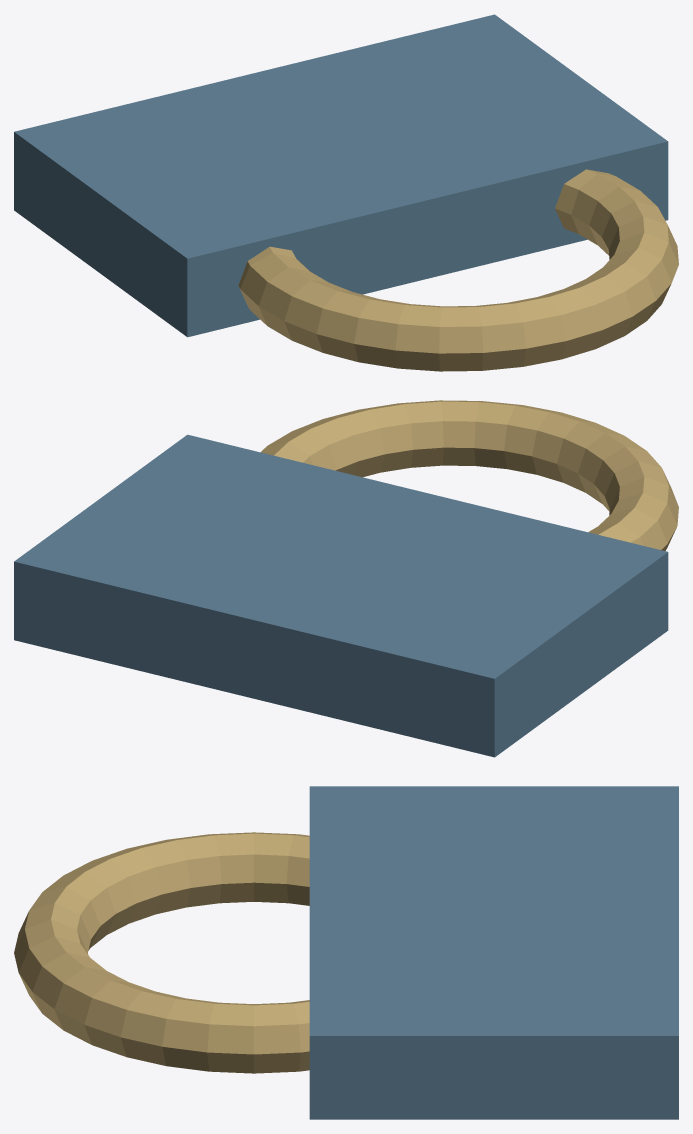
File: sheng_sign_1.glb
The picture shows the model from 3 angles, top to bottom: view 1: azimuth 30°, elevation 25°; view 2: azimuth 150°, elevation 25°; view 3: azimuth 270°, elevation 25°; orthographic projection. The views are drawn at different scales.
Visible parts, largest first — view 1: world; view 2: world; view 3: world.
Part boxes in pixels (bbox=[...]): world: bbox=[14, 14, 678, 371]; world: bbox=[14, 400, 678, 757]; world: bbox=[14, 786, 678, 1119].
Size of the model in its own units: 0.16 by 0.025 by 0.18.
